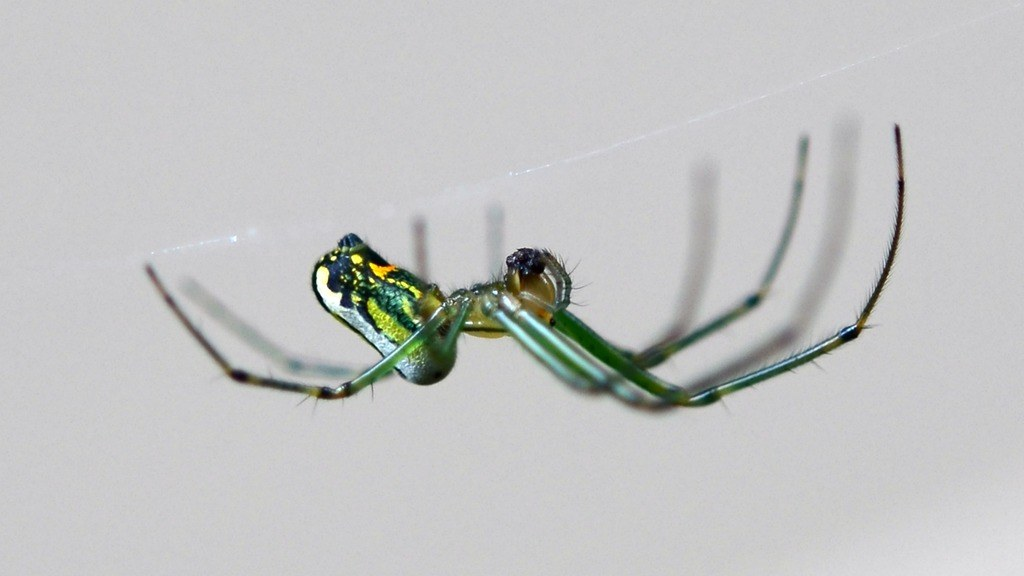insect: (147, 120, 905, 416), (144, 122, 902, 409)
